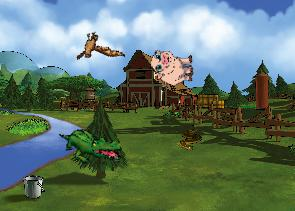crocodile: (59, 124, 122, 167)
eagle: (69, 23, 125, 73)
pig: (151, 47, 194, 87)
